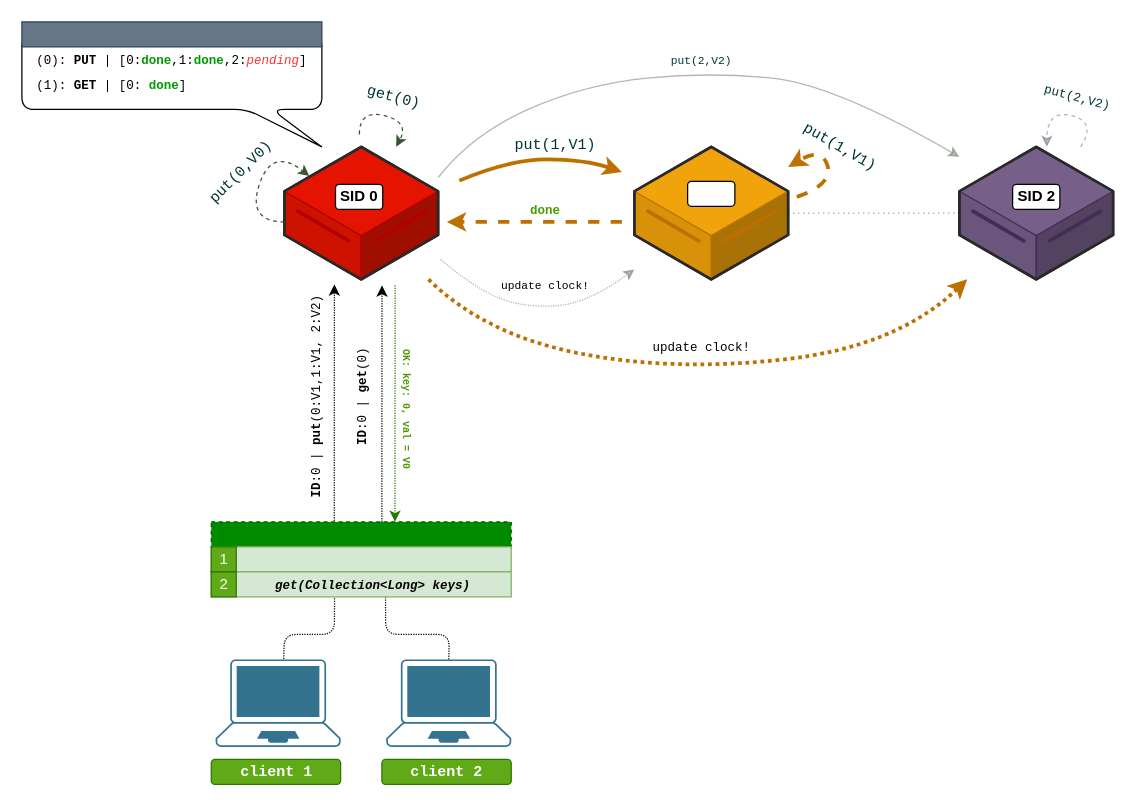
Some shapes in this 1145 by 806 pixel diagram are drawn without their labels. Each missing label, with the box of its shape:
Pending transactions: (21, 21, 322, 47)
put(Map<Long, byte[]> data): (210, 546, 511, 572)
SID 1: (686, 180, 735, 206)
StorageAPI: (210, 521, 511, 547)
